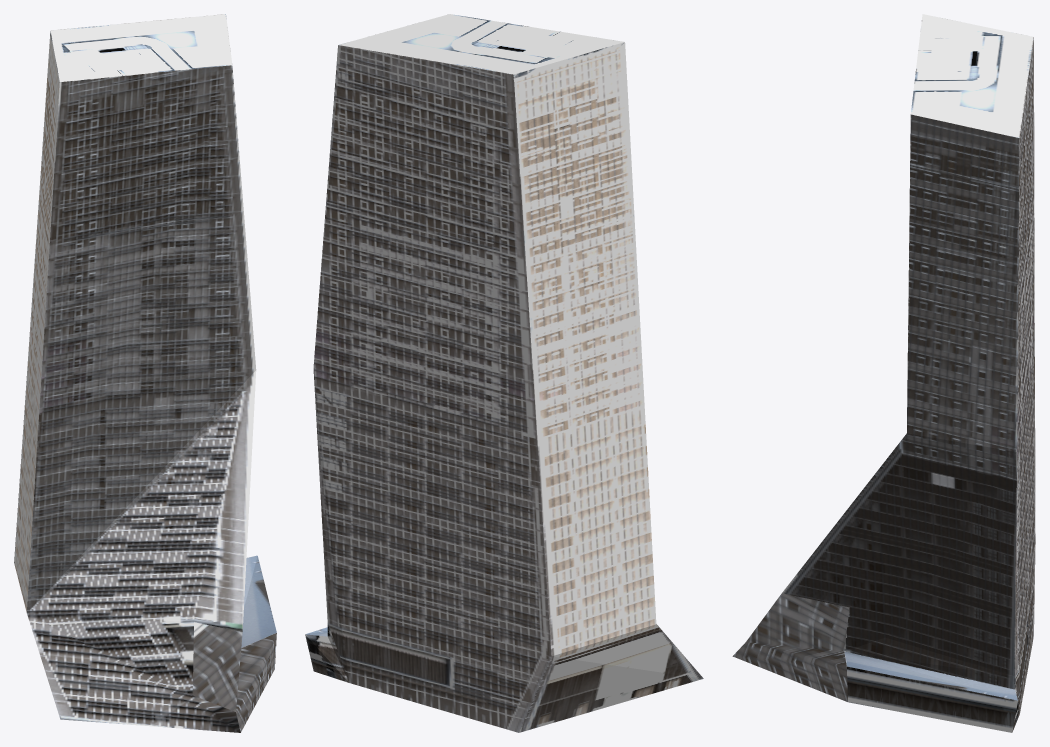
3 views of the same model, side by side, from view 1: azimuth 30°, elevation 25°; view 2: azimuth 150°, elevation 25°; view 3: azimuth 270°, elevation 25° (orthographic). The views are drawn at different scales.
Visible parts, largest first — view 1: 4.08copy; view 2: 4.08copy; view 3: 4.08copy.
Boxes of the visible parts, x1,y1,x2,y2 form: 4.08copy: (14, 14, 276, 732); 4.08copy: (305, 14, 703, 732); 4.08copy: (732, 14, 1035, 732).
Bounding box in the file's own units: 64.25 × 132 × 60.02.
1 material, 1 textured.
